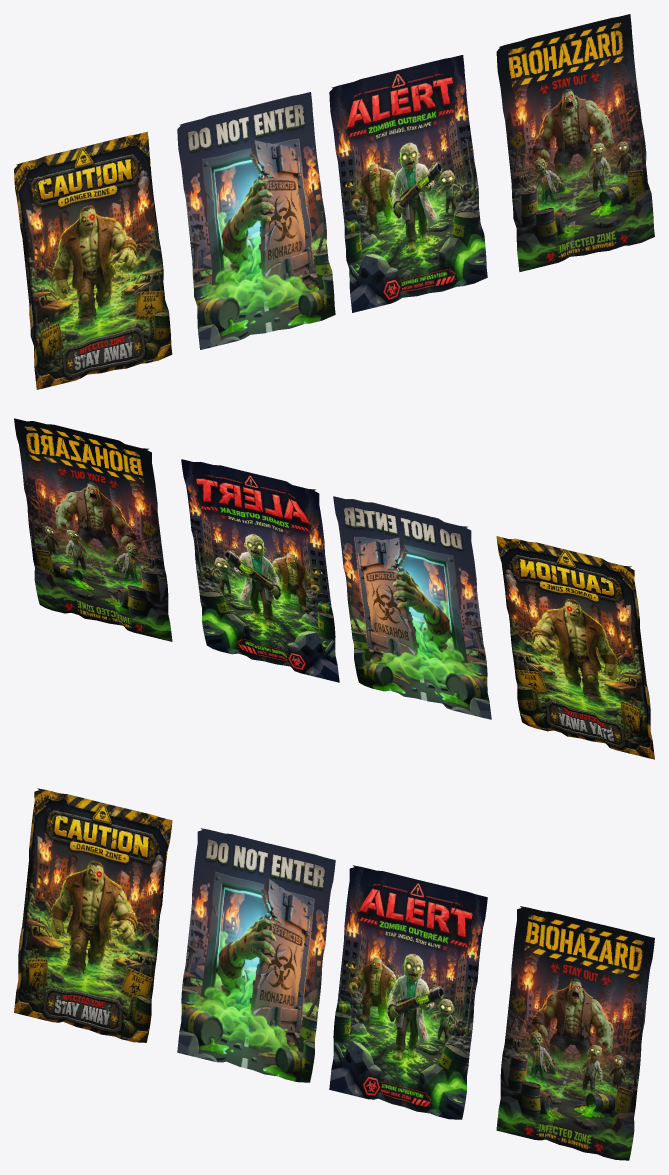
File: Cartazes.fbx
3 views of the same model, one above another, from view 1: azimuth 30°, elevation 25°; view 2: azimuth 150°, elevation 25°; view 3: azimuth 330°, elevation 25° (orthographic).
Visible parts, largest first — view 1: Caution Cartaz, DoNotEnter Cartaz, Alert Cartaz, Biohazard Cartaz; view 2: Biohazard Cartaz, Alert Cartaz, DoNotEnter Cartaz, Caution Cartaz; view 3: Biohazard Cartaz, Alert Cartaz, DoNotEnter Cartaz, Caution Cartaz.
Boxes of the visible parts, box(x1,y1,x2,y2) form: Caution Cartaz: box(14, 131, 172, 389); DoNotEnter Cartaz: box(177, 92, 335, 349); Alert Cartaz: box(329, 55, 487, 312); Biohazard Cartaz: box(496, 14, 654, 271); Biohazard Cartaz: box(14, 418, 172, 641); Alert Cartaz: box(181, 459, 339, 682); DoNotEnter Cartaz: box(333, 496, 491, 719); Caution Cartaz: box(496, 536, 654, 759); Biohazard Cartaz: box(496, 906, 654, 1160); Alert Cartaz: box(329, 865, 487, 1119); DoNotEnter Cartaz: box(177, 828, 335, 1082); Caution Cartaz: box(14, 788, 172, 1042).
Bounding box in the file's own units: 916 × 297 × 67.
